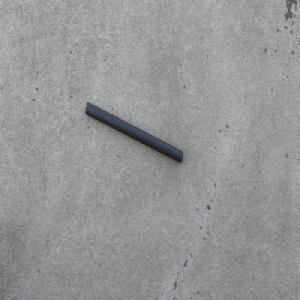LuggagePart: (84, 100, 184, 164)
